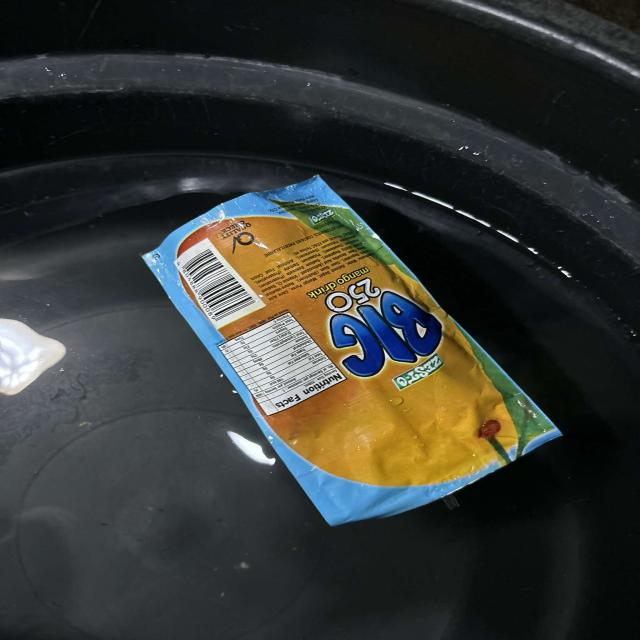Plastic Pouch: (126, 163, 582, 542)
